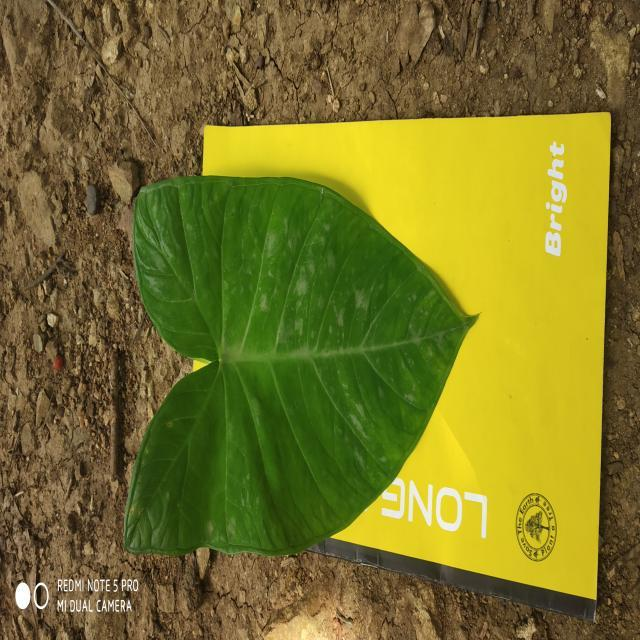leaf: (122, 172, 480, 557)
